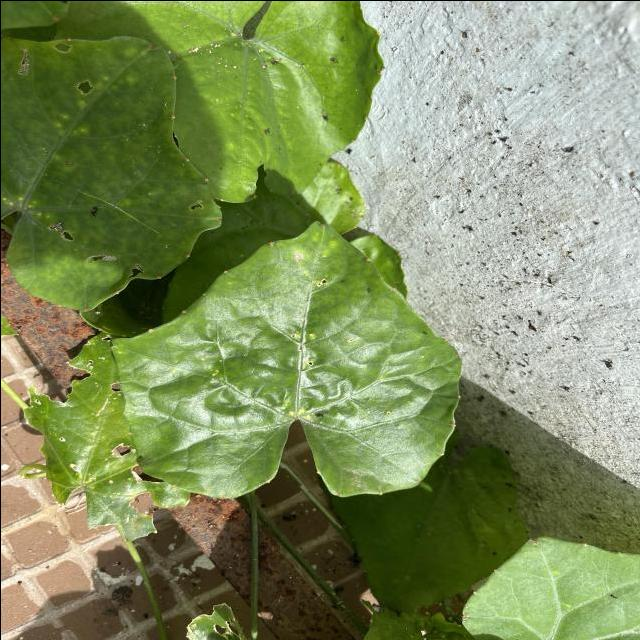Coccinia grandis: (100, 215, 472, 502)
